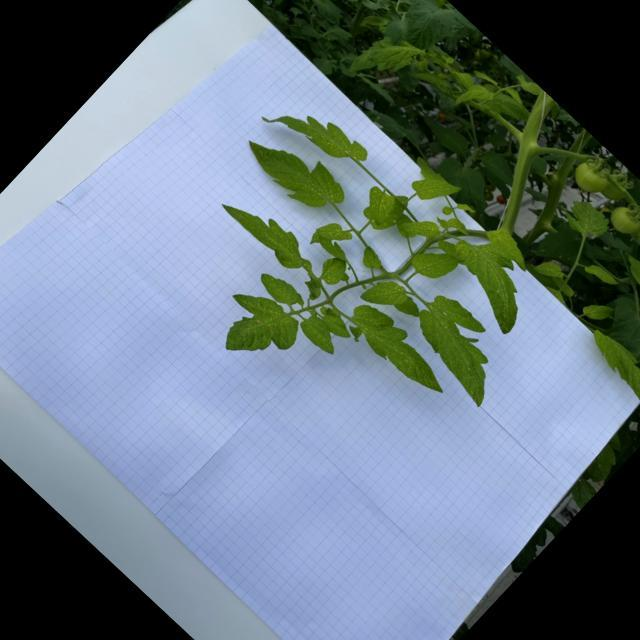Tomato target spot leaf: (398, 286, 523, 409), (337, 294, 456, 409), (432, 225, 546, 337), (239, 116, 353, 227), (260, 82, 370, 190), (201, 276, 308, 382), (218, 184, 321, 283), (577, 324, 640, 413), (364, 22, 429, 86), (553, 187, 615, 248), (407, 161, 462, 216), (358, 268, 412, 322), (408, 237, 462, 290), (483, 222, 535, 272), (295, 310, 346, 360), (254, 264, 304, 312), (613, 218, 640, 305), (354, 180, 402, 228), (306, 215, 354, 262), (398, 206, 444, 252), (317, 308, 356, 346), (314, 252, 352, 290), (582, 258, 620, 294), (580, 294, 614, 328), (532, 254, 566, 288), (392, 292, 424, 324), (356, 244, 386, 275), (446, 214, 472, 240)
